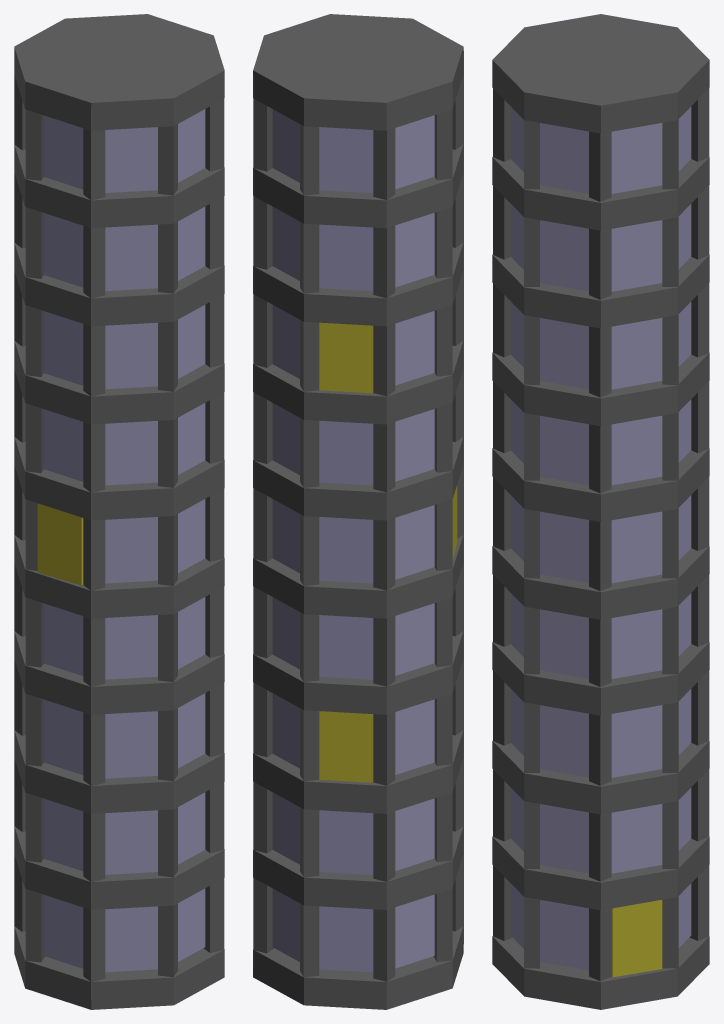
Rendered from Building4.fbx.
The picture shows the model from 3 angles, left to right: view 1: azimuth 30°, elevation 25°; view 2: azimuth 150°, elevation 25°; view 3: azimuth 270°, elevation 25°; orthographic projection.
Visible parts, largest first — view 1: Cylinder, Cylinder.010, Cube.004, Cube.005, Cube.002, Cube.006, Cylinder.001, Cylinder.007, Cylinder.009, Cylinder.006, Cylinder.008, Cylinder.003 (+5 smaller); view 2: Cylinder, Cylinder.010, Cube.001, Cube.003, Cube, Cube.006, Cylinder.001, Cylinder.006, Cylinder.008, Cylinder.009, Cylinder.004, Cylinder.002 (+6 smaller); view 3: Cylinder, Cylinder.010, Cube.007, Cube, Cube.003, Cube.005, Cube.002, Cylinder.004, Cylinder.005, Cylinder.009, Cylinder.006, Cylinder.003 (+5 smaller).
Part boxes in pixels (x1=…): Cylinder: x1=44, y1=109, x2=205, y2=972; Cylinder.010: x1=14, y1=14, x2=224, y2=130; Cube.004: x1=83, y1=107, x2=105, y2=1000; Cube.005: x1=158, y1=124, x2=177, y2=977; Cube.002: x1=203, y1=99, x2=224, y2=952; Cube.006: x1=25, y1=109, x2=44, y2=962; Cylinder.001: x1=14, y1=926, x2=224, y2=1009; Cylinder.007: x1=14, y1=341, x2=224, y2=424; Cylinder.009: x1=14, y1=144, x2=224, y2=228; Cylinder.006: x1=14, y1=437, x2=224, y2=520; Cylinder.008: x1=14, y1=243, x2=224, y2=326; Cylinder.003: x1=14, y1=730, x2=224, y2=813; Cylinder: x1=272, y1=109, x2=434, y2=972; Cylinder.010: x1=253, y1=14, x2=463, y2=130; Cube.001: x1=373, y1=107, x2=395, y2=999; Cube.003: x1=253, y1=75, x2=273, y2=968; Cube: x1=300, y1=124, x2=319, y2=977; Cube.006: x1=433, y1=109, x2=452, y2=961; Cylinder.001: x1=253, y1=926, x2=463, y2=1009; Cylinder.006: x1=253, y1=437, x2=463, y2=520; Cylinder.008: x1=253, y1=243, x2=463, y2=326; Cylinder.009: x1=253, y1=145, x2=463, y2=228; Cylinder.004: x1=253, y1=631, x2=463, y2=714; Cylinder.002: x1=253, y1=826, x2=463, y2=909; Cylinder: x1=511, y1=106, x2=691, y2=970; Cylinder.010: x1=492, y1=14, x2=709, y2=133; Cube.007: x1=589, y1=131, x2=611, y2=981; Cube: x1=689, y1=88, x2=709, y2=940; Cube.003: x1=662, y1=96, x2=678, y2=986; Cube.005: x1=493, y1=88, x2=512, y2=940; Cube.002: x1=524, y1=120, x2=539, y2=968; Cylinder.004: x1=492, y1=642, x2=709, y2=715; Cylinder.005: x1=492, y1=546, x2=709, y2=619; Cylinder.009: x1=492, y1=157, x2=709, y2=230; Cylinder.006: x1=492, y1=448, x2=709, y2=521; Cylinder.003: x1=492, y1=741, x2=709, y2=814.
Size of the model in its own units: 810 by 3720 by 810.
